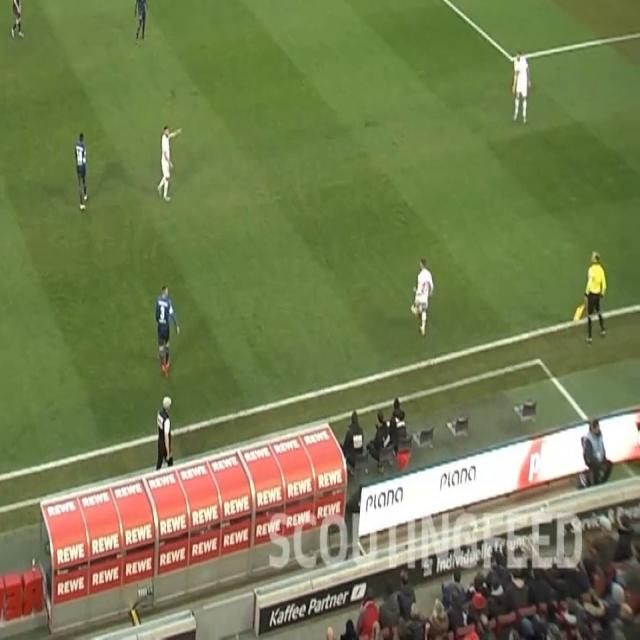ball: (411, 302, 418, 317)
